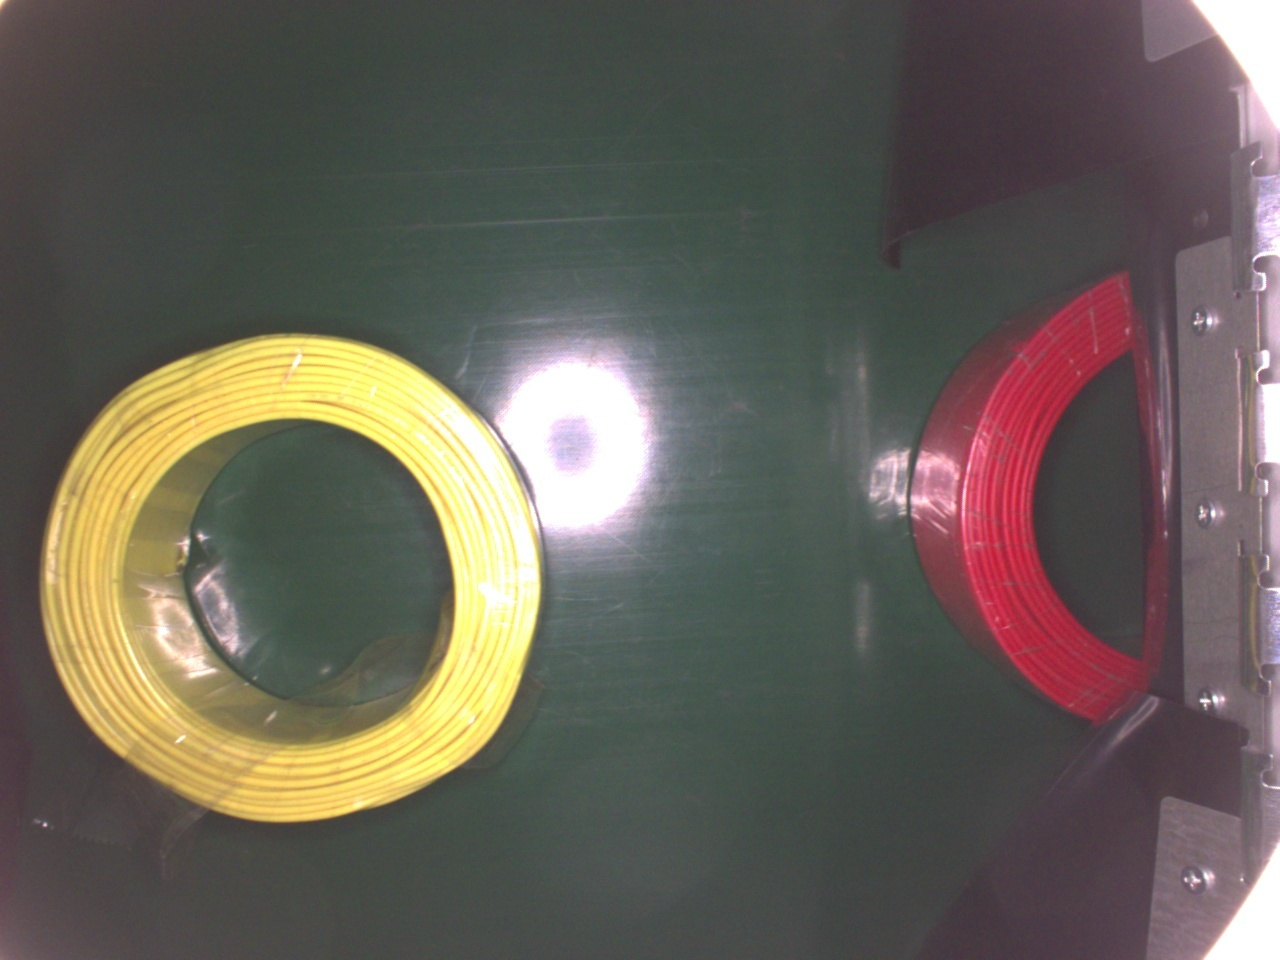red: (913, 265, 1149, 723)
yellow: (36, 332, 546, 827)
